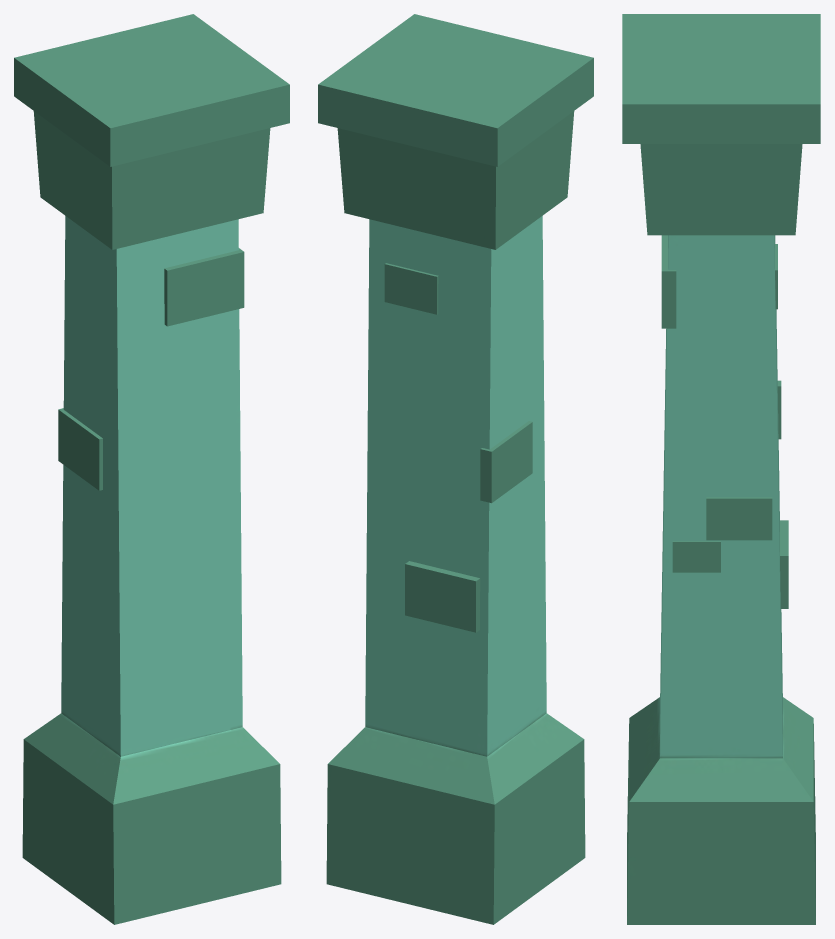
File: Pillar.fbx
3 renders of one model, left to right at view 1: azimuth 30°, elevation 25°; view 2: azimuth 150°, elevation 25°; view 3: azimuth 270°, elevation 25°, orthographic. The views are drawn at different scales.
Visible parts, largest first — view 1: Pillar; view 2: Pillar; view 3: Pillar.
Part boxes in pixels (x1=…): Pillar: x1=14, y1=14, x2=289, y2=924; Pillar: x1=318, y1=14, x2=593, y2=924; Pillar: x1=622, y1=14, x2=820, y2=924.
Size of the model in its own units: 0.8908 by 3.8 by 0.8291.
